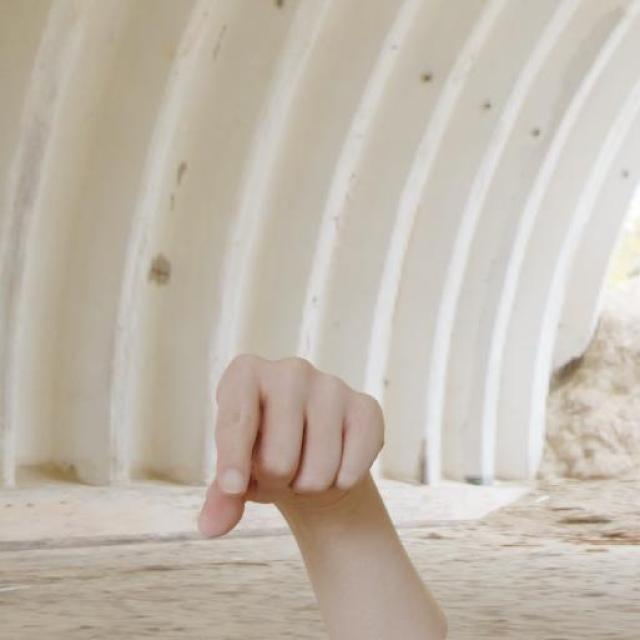Q: (195, 352, 389, 543)
